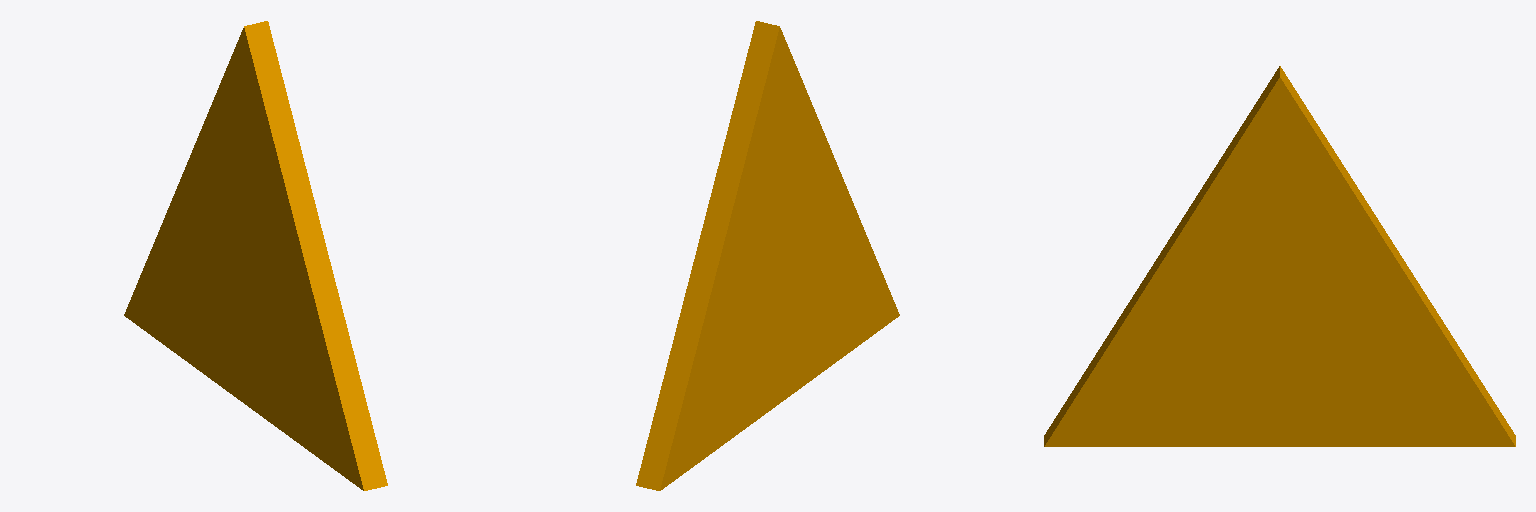
The robot description file, URDF, robot "triangle":
<?xml version="1.0" ?>
<robot name="triangle">
  <link name="base_link">
    <visual>
      <geometry>
        <mesh filename="triangle.obj" scale="0.09333333333333335 0.09333333333333335 0.09333333333333335"/>
      </geometry>
      <origin rpy="-0.5235987755982988 0.0 0.0" xyz="0.0 0.0 -0.023333333333333324"/>
    </visual>
    <collision>
      <geometry>
        <box size="0.009333333333333336 0.16165807537309523 0.14"/>
      </geometry>
    </collision>
    <inertial>
      <mass value="1.0"/>
      <inertia ixx="0.003811111111111112" ixy="0.0" ixz="0.0" iyy="0.0016405925925925928" iyz="0.0" izz="0.0021850370370370374"/>
    </inertial>
  </link>
  <!--
    <link name="test">
        <visual>
            <geometry>
                <box size="${x} ${y} ${z}"/>
            </geometry>
            <material name="Miau">
                <color rgba="1.0 0.0 0.0 1"/>
            </material>
        </visual>
    </link>
    <joint name="base_link_to_test" type="fixed">
        <parent link="base_link"/>
        <child link="test"/>
    </joint>
    -->
</robot>

--- What the picture shows (computed from the rendered views, not written in the file) ---
The picture shows the robot from 3 angles, left to right: view 1: azimuth 30°, elevation 25°; view 2: azimuth 150°, elevation 25°; view 3: azimuth 270°, elevation 25°; orthographic projection.
Model triangle with 1 links and 0 joints (none), rooted at base_link, posed every joint at zero.
Links seen in each view (by area): view 1: base_link; view 2: base_link; view 3: base_link.
Link boxes in pixels (x1,y1,x2,y2): base_link: [124, 21, 387, 490]; base_link: [636, 21, 899, 490]; base_link: [1044, 66, 1515, 446].
Bounding box of the posed robot: 0.0093 × 0.1617 × 0.14 m (x, y, z).
Meshes: 1 distinct files referenced, 1 mesh visuals loaded (1 OBJ).